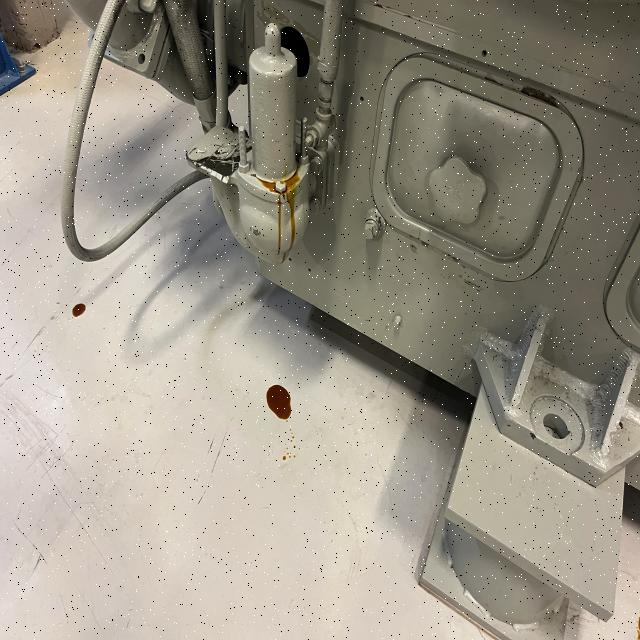Oil Leak: (222, 21, 348, 269), (265, 383, 293, 424), (278, 446, 296, 464), (69, 301, 88, 318)
